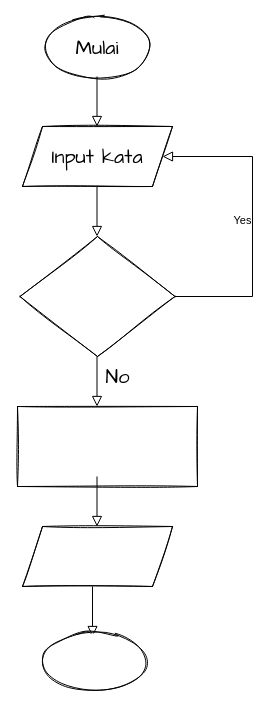
The diagram is 280 pixels wide and 709 high, and some of its shapes have lost their labels. Here are the shapes that lost their labels. From the top down, the centre of each, then its label:
[97,296]: kata = number
[94,661]: Selesai
